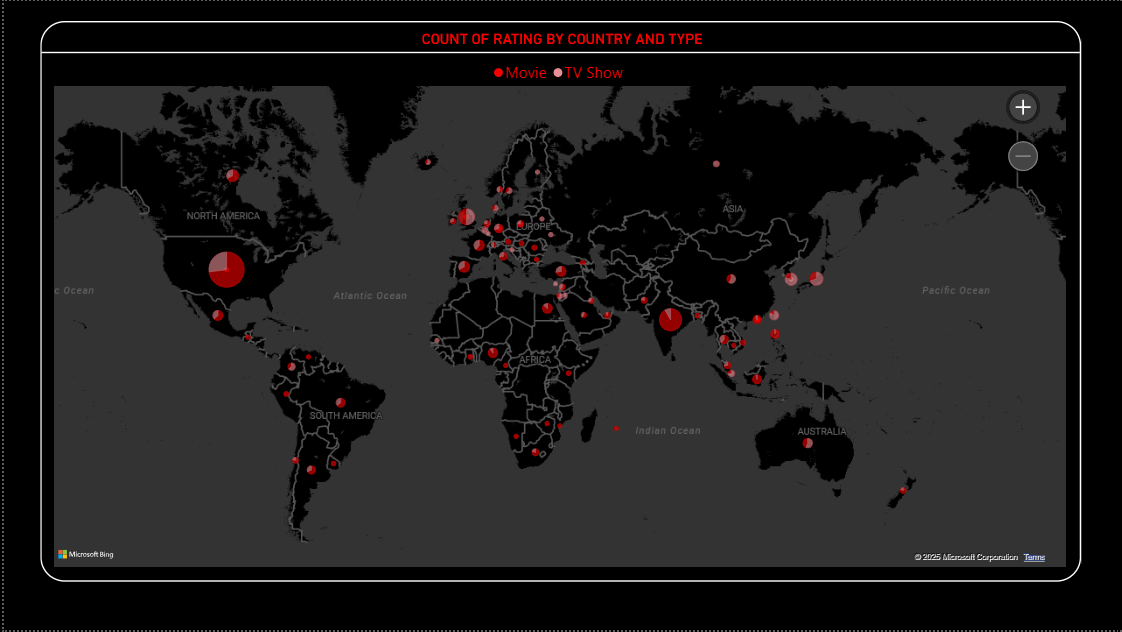

What the dashboard file says about the page in this screenshot:
{"tool":"powerbi","page":{"name":"Page 2","canvas":[1280,720],"ordinal":1},"visuals":[{"type":"map","title":"COUNT OF RATING BY COUNTRY AND TYPE","fields":{"Category":["netflix_titles.country"],"Size":["CountNonNull(netflix_titles.rating)"],"Series":["netflix_titles.type"]},"box":[41.1,22.4,1189.2,640.6],"z":0}]}

Visuals, with their boxes in screenshot pixels (x1, y1, x2, y2), scaled from the page's 1280x720 canvas onto the 1122x632 screenshot:
"COUNT OF RATING BY COUNTRY AND TYPE" map: [left=36, top=20, right=1078, bottom=582]
